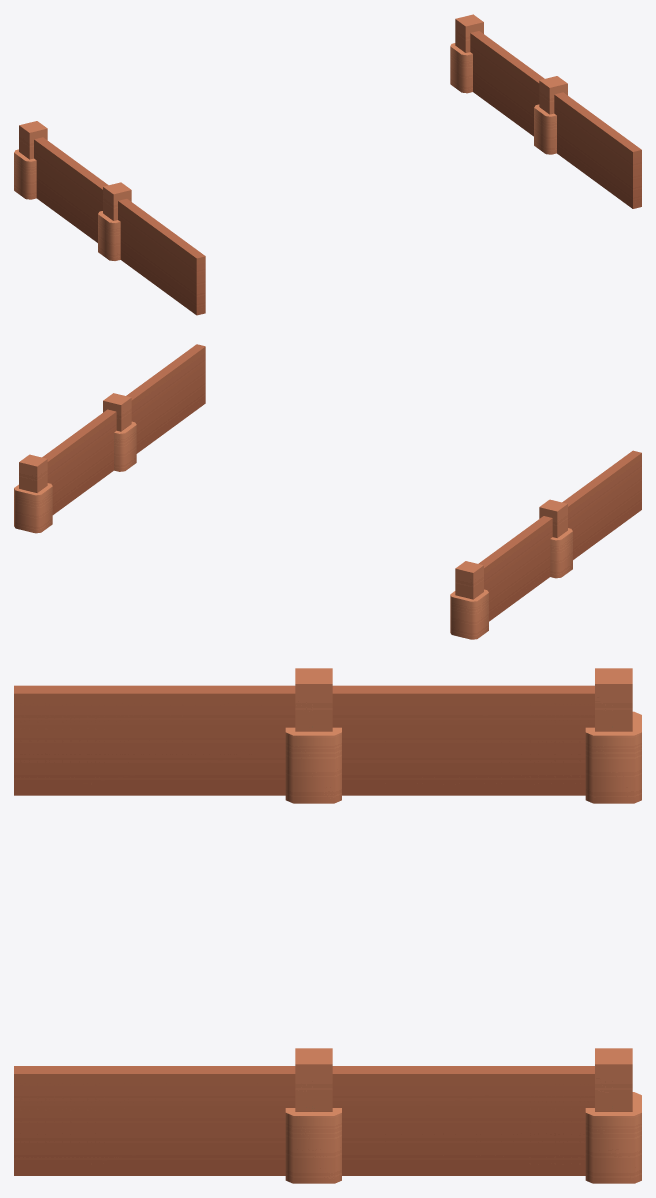
File: fence-low.glb
3 views of the same model, one above another, from view 1: azimuth 30°, elevation 25°; view 2: azimuth 150°, elevation 25°; view 3: azimuth 270°, elevation 25° (orthographic). The views are drawn at different scales.
Parts seen in each view (by area): view 1: fence-low; view 2: fence-low; view 3: fence-low.
Part boxes in pixels (x1,y1,x2,y2): fence-low: [14, 14, 641, 315]; fence-low: [14, 344, 641, 639]; fence-low: [14, 668, 641, 1183].
Size of the model in its own units: 1.28 by 0.17 by 0.8375.
Materials: 1 (1 with a texture image).
